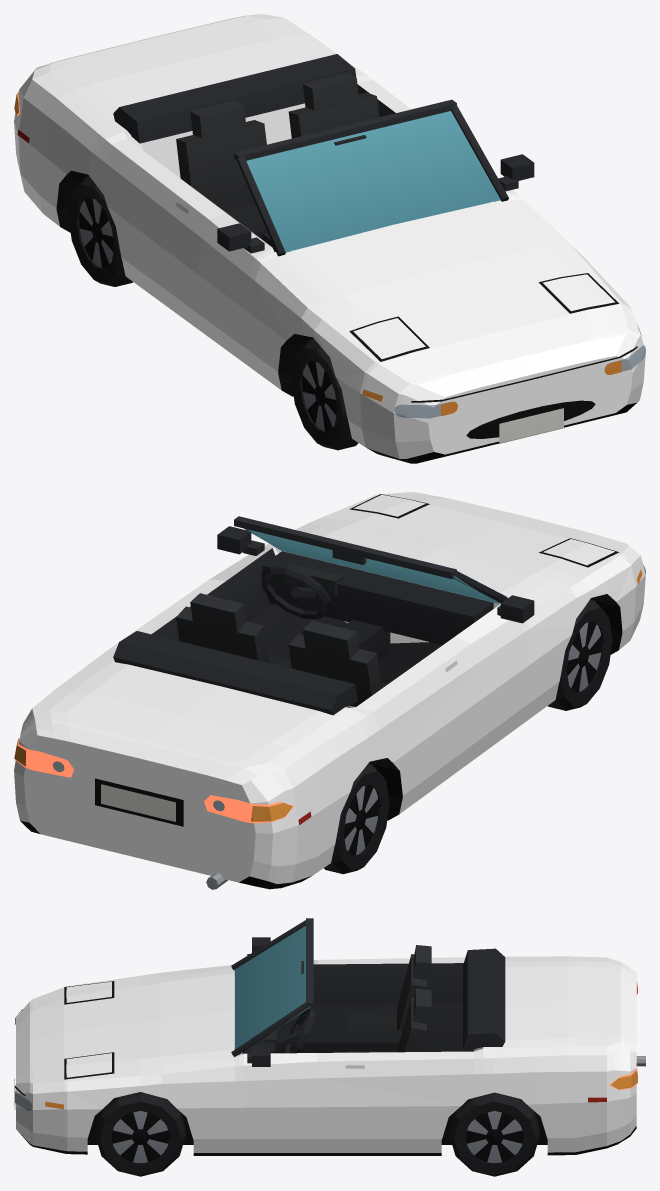
File: Miata.fbx
3 renders of one model, top to bottom at view 1: azimuth 30°, elevation 25°; view 2: azimuth 150°, elevation 25°; view 3: azimuth 270°, elevation 25°, orthographic. The views are drawn at different scales.
Visible parts, largest first — view 1: body, wheel-front-right, wheel-back-right, popup-right, popup-left; view 2: body, wheel-back-right, wheel-front-right, popup-right, popup-left; view 3: body, wheel-front-left, wheel-back-left, popup-left, popup-right.
Boxes of the visible parts, x1,y1,x2,y2 form: body: (14, 14, 645, 463); wheel-front-right: (291, 339, 358, 450); wheel-back-right: (68, 176, 132, 286); popup-right: (353, 318, 425, 359); popup-left: (543, 274, 615, 311); body: (14, 492, 645, 889); wheel-back-right: (324, 763, 389, 874); wheel-front-right: (548, 600, 612, 710); popup-right: (542, 539, 615, 565); popup-left: (353, 494, 425, 517); body: (14, 918, 645, 1155); wheel-front-left: (95, 1092, 185, 1176); wheel-back-left: (449, 1092, 539, 1176); popup-left: (66, 1053, 111, 1077); popup-right: (66, 981, 111, 1003).
Bounding box in the file's own units: 1.79 × 1.17 × 4.04.
